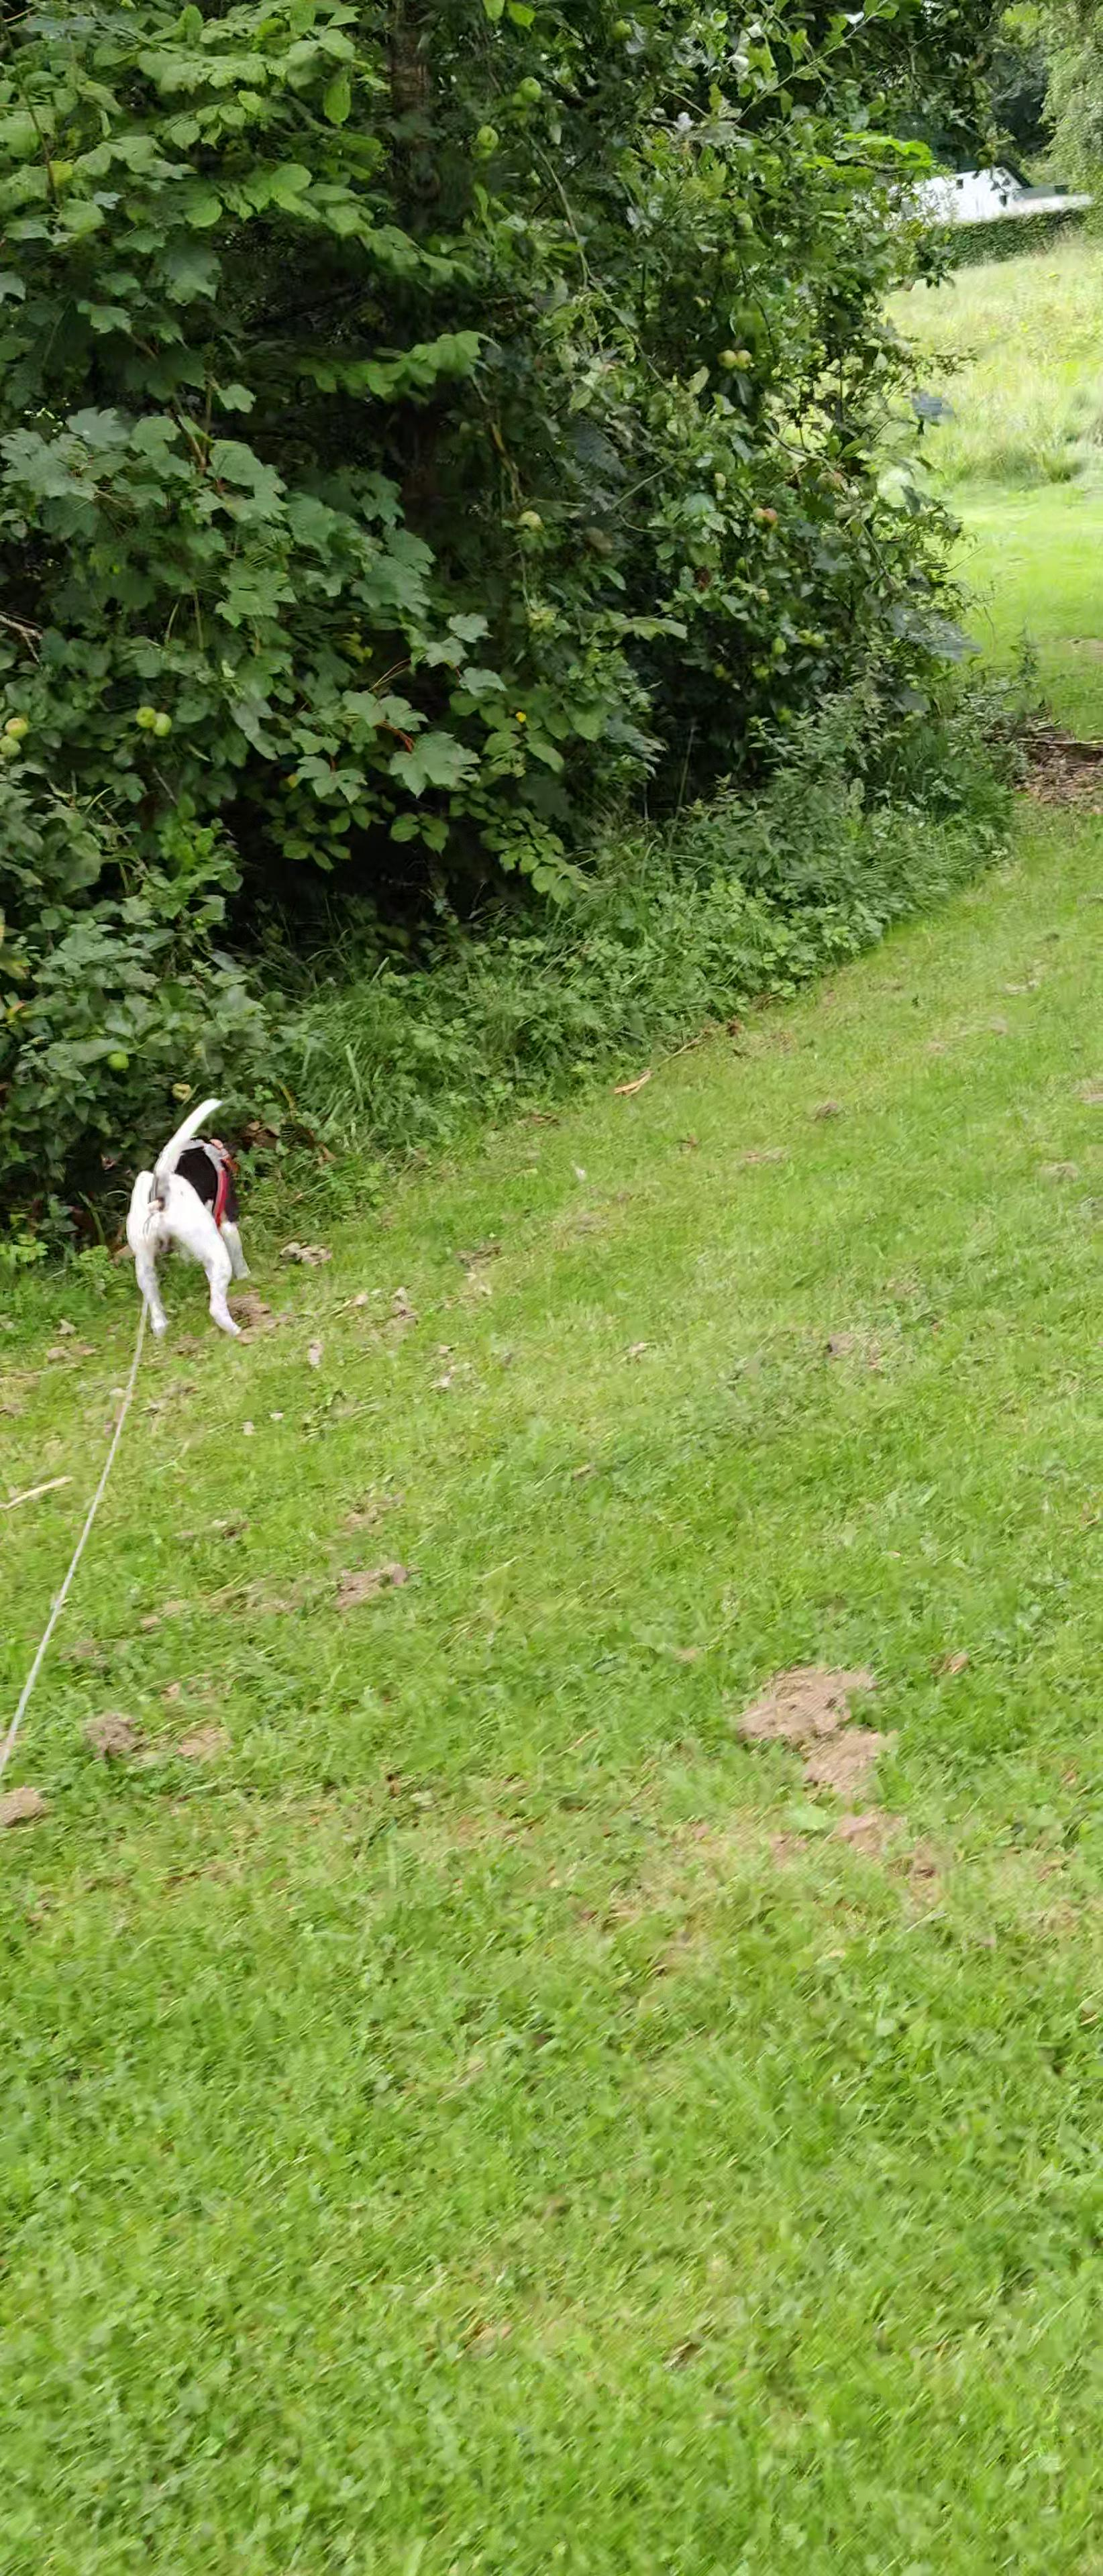Dog: (122, 1086, 261, 1377)
